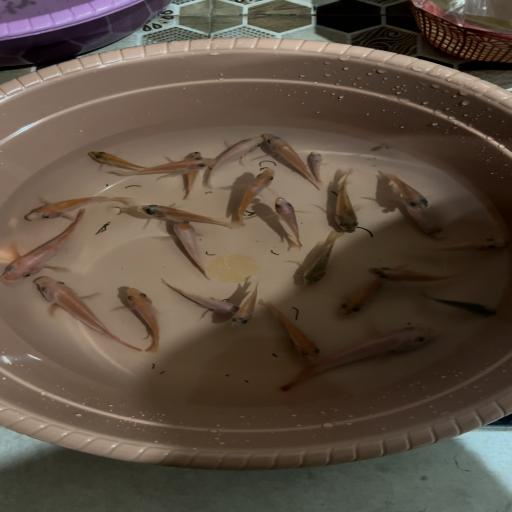nila: (273, 320, 444, 398), (26, 275, 145, 353), (0, 211, 96, 279), (260, 296, 330, 362), (330, 262, 406, 319), (115, 284, 175, 355), (20, 188, 141, 223), (157, 277, 242, 319), (201, 134, 263, 188), (134, 202, 249, 231), (286, 234, 348, 287), (228, 166, 282, 226), (164, 218, 218, 278), (259, 131, 320, 184), (325, 167, 369, 237), (387, 201, 459, 242), (417, 288, 503, 322), (380, 170, 440, 212), (415, 232, 507, 259), (268, 196, 313, 250), (224, 278, 269, 331), (367, 262, 473, 284), (112, 156, 216, 178), (170, 148, 210, 198), (84, 148, 147, 170), (303, 149, 339, 183)
